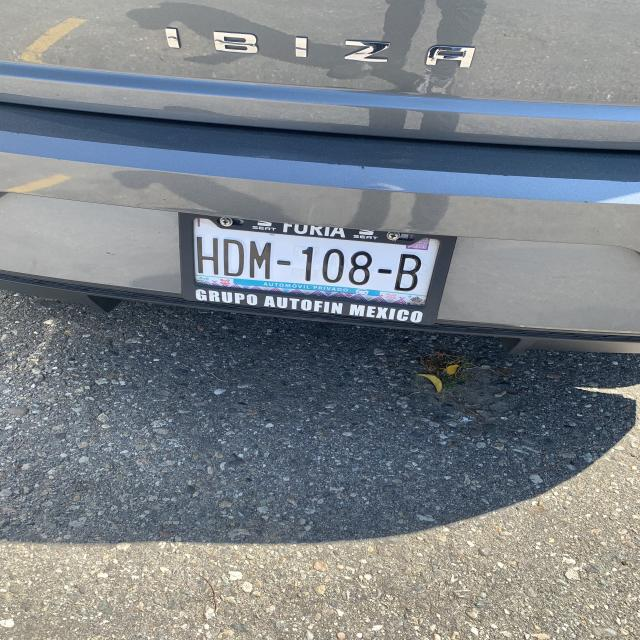placa: (182, 231, 436, 298)
